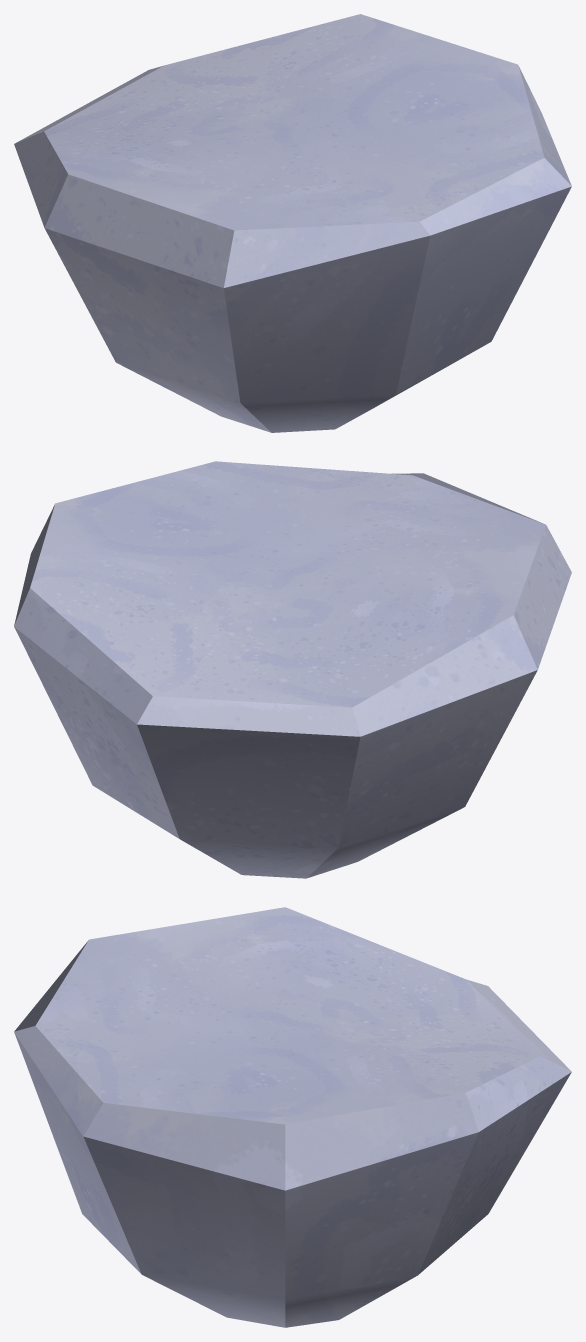
The model's file is SM_spaceRock2.fbx.
3 renders of one model, top to bottom at view 1: azimuth 30°, elevation 25°; view 2: azimuth 150°, elevation 25°; view 3: azimuth 270°, elevation 25°, orthographic. The views are drawn at different scales.
Visible parts, largest first — view 1: spaceRock2; view 2: spaceRock2; view 3: spaceRock2.
Boxes of the visible parts, <box> form: spaceRock2: <box>14,14,571,432</box>; spaceRock2: <box>14,461,571,878</box>; spaceRock2: <box>14,907,571,1327</box>.
Size of the model in its own units: 23.48 by 12.6 by 23.01.
